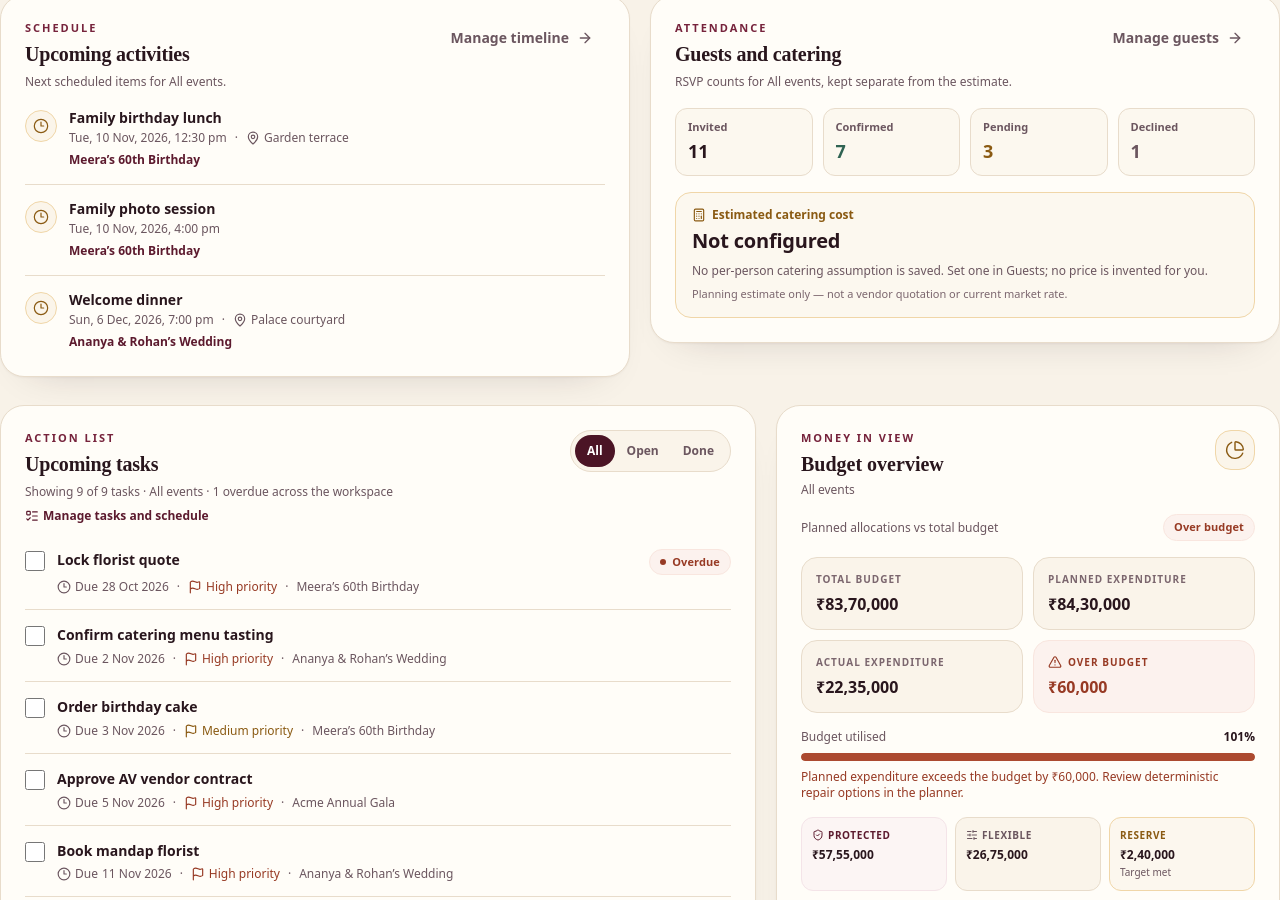
DashboardPage › filters the task list by open and completed state
(page scrolled)
Click the button "Open".
click(643, 451)  # box [615, 435, 671, 467]
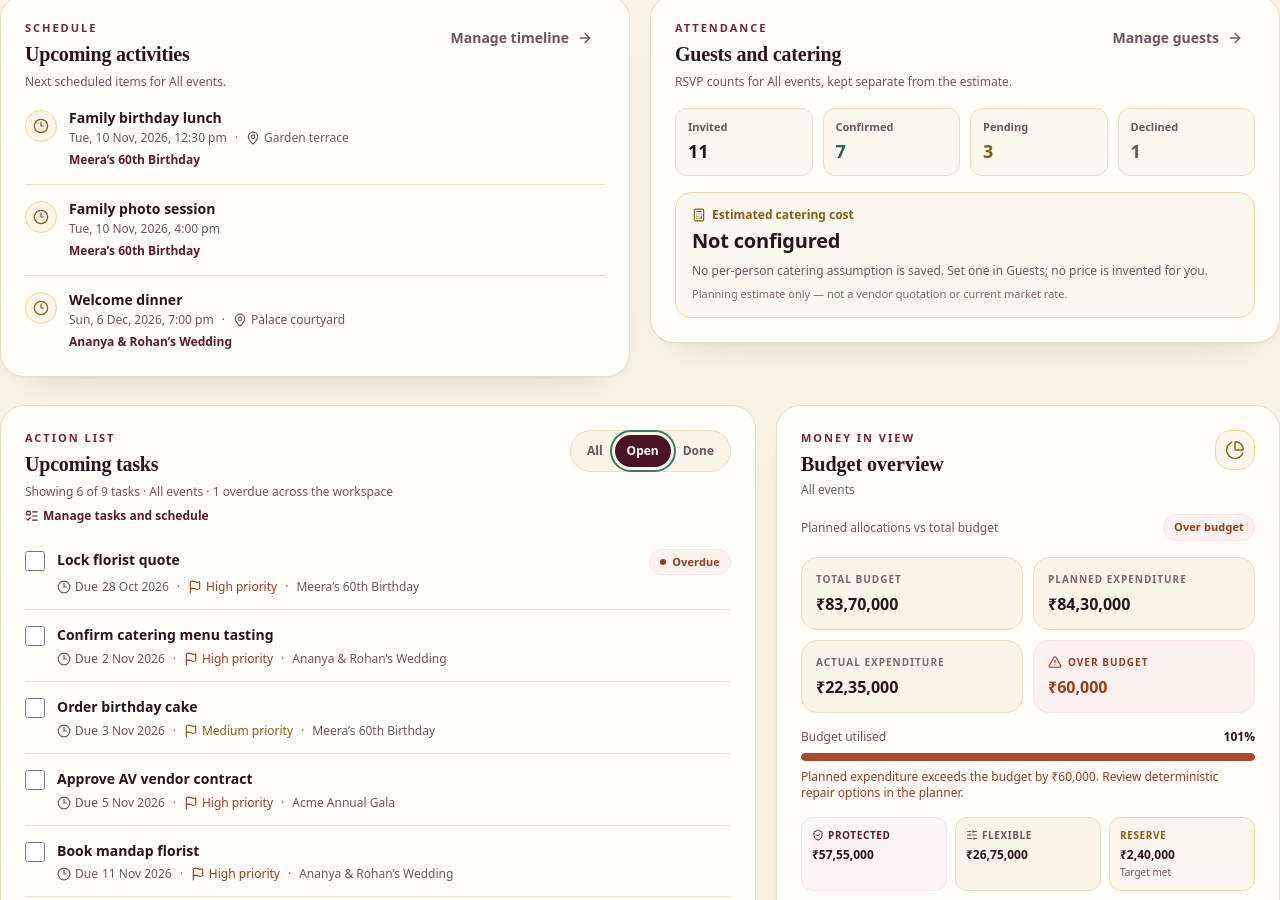
Expected: the checkbox labelled "Share save-the-dates" is not shown
Expected: the checkbox labelled "Confirm catering menu tasting" is shown, [25, 626, 45, 646]
Click the button "Done".
click(698, 451)  # box [671, 435, 726, 467]
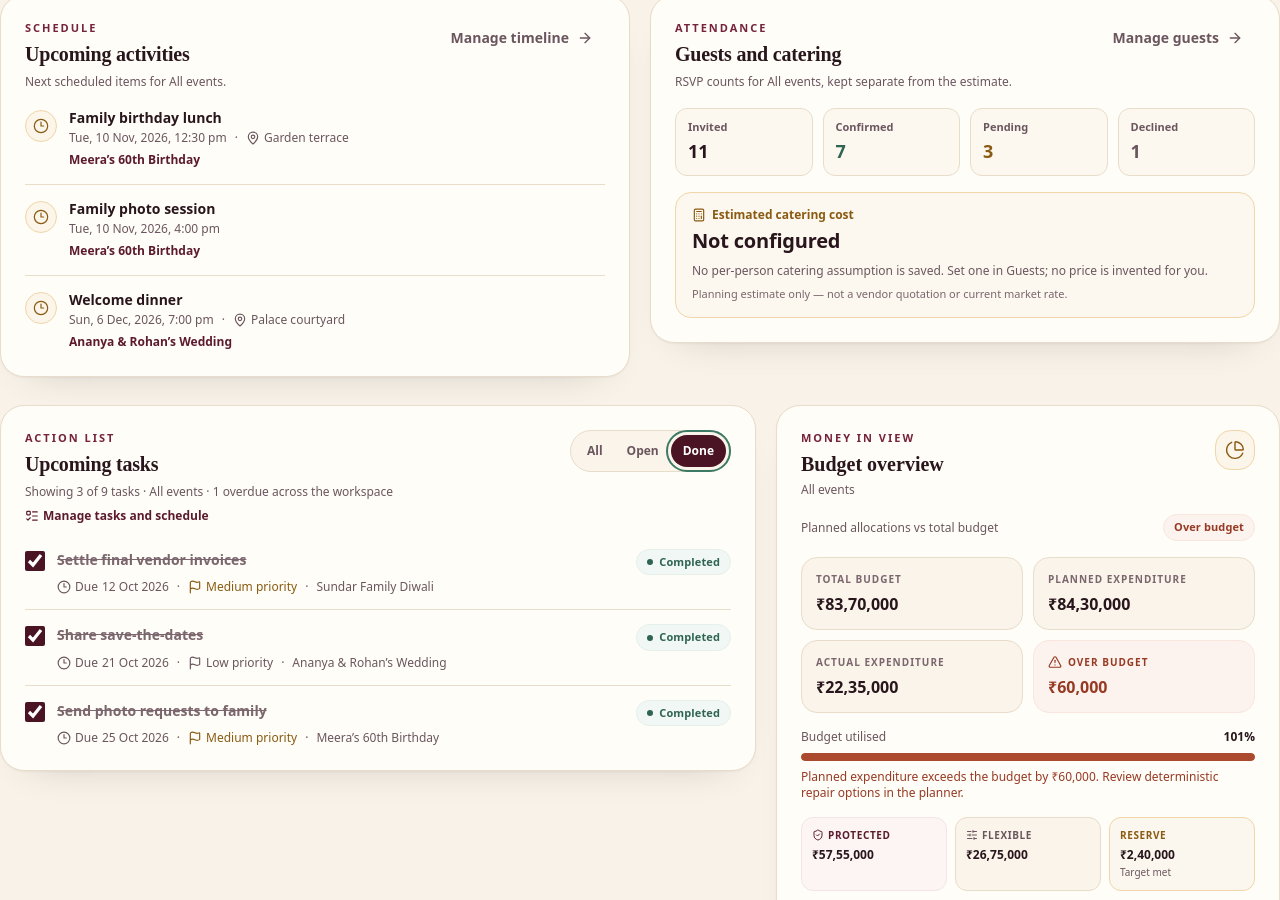
Now the checkbox labelled "Share save-the-dates" is checked, box [25, 626, 45, 646]
Now the label "Confirm catering menu tasting" is gone
